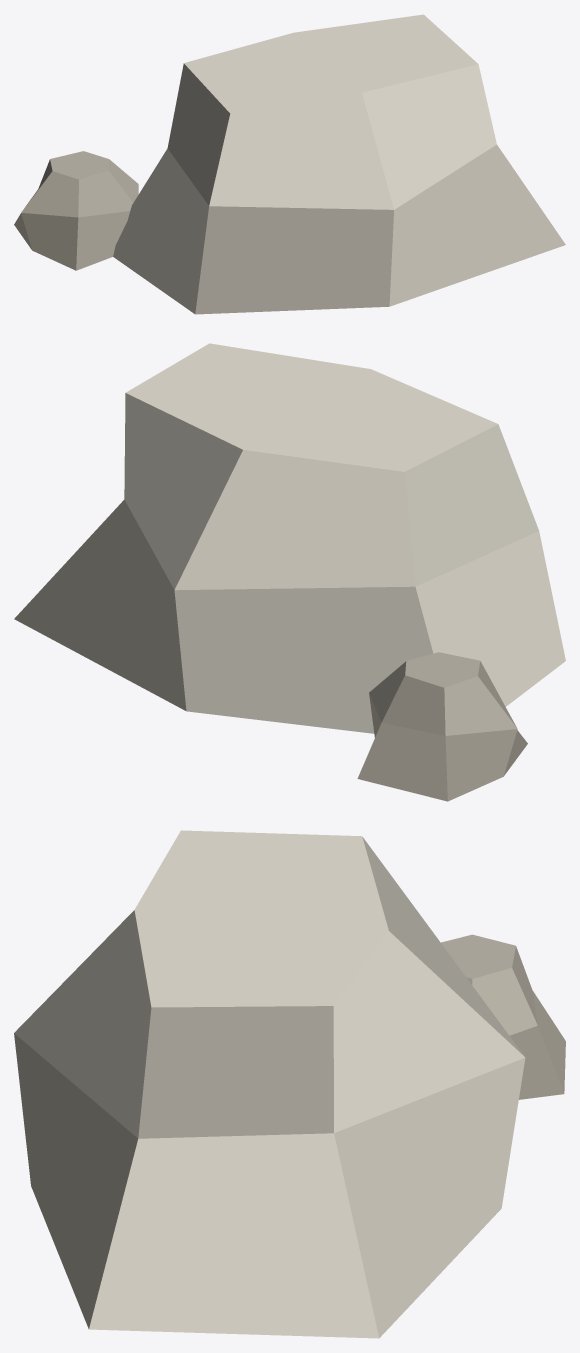
The model's file is Stone3.fbx.
3 renders of one model, top to bottom at view 1: azimuth 30°, elevation 25°; view 2: azimuth 150°, elevation 25°; view 3: azimuth 270°, elevation 25°, orthographic. The views are drawn at different scales.
Parts seen in each view (by area): view 1: Stone3; view 2: Stone3; view 3: Stone3.
Part boxes in pixels (x1,y1,x2,y2): Stone3: [14, 14, 565, 314]; Stone3: [14, 343, 565, 801]; Stone3: [14, 830, 565, 1338].
Size of the model in its own units: 0.488 by 0.2032 by 0.3615.
